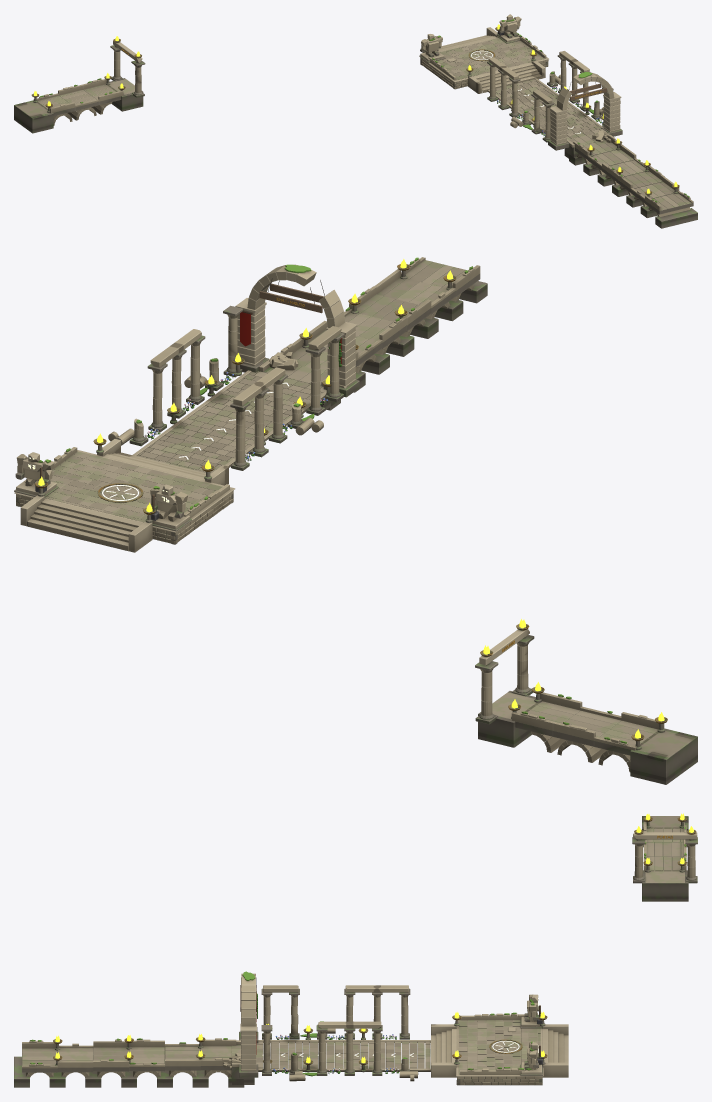
File: LOBBY_SN_07_EXIT_c47183.fbx
3 views of the same model, one above another, from view 1: azimuth 30°, elevation 25°; view 2: azimuth 150°, elevation 25°; view 3: azimuth 270°, elevation 25° (orthographic). The views are drawn at different scales.
Visible parts, largest first — view 1: WB_Exit_Spawn__SNB_Spawn, WB_Exit_Bridge__SNB_Bridge, WB_Exit_IsleBridge__SNB_IsleBridge, WB_Exit_Avenue__SNB_Avenue_1, WB_Exit_Gate__SNB_Gate, WB_Exit_Avenue__SNB_Avenue_0; view 2: WB_Exit_Spawn__SNB_Spawn, WB_Exit_IsleBridge__SNB_IsleBridge, WB_Exit_Bridge__SNB_Bridge, WB_Exit_Avenue__SNB_Avenue_1, WB_Exit_Avenue__SNB_Avenue_0, WB_Exit_Gate__SNB_Gate; view 3: WB_Exit_Spawn__SNB_Spawn, WB_Exit_Bridge__SNB_Bridge, WB_Exit_Avenue__SNB_Avenue_1, WB_Exit_Avenue__SNB_Avenue_0, WB_Exit_IsleBridge__SNB_IsleBridge, WB_Exit_Gate__SNB_Gate.
Part boxes in pixels (bbox=[...]): WB_Exit_Spawn__SNB_Spawn: bbox=[419, 14, 548, 93]; WB_Exit_Bridge__SNB_Bridge: bbox=[564, 129, 697, 228]; WB_Exit_IsleBridge__SNB_IsleBridge: bbox=[14, 38, 145, 133]; WB_Exit_Avenue__SNB_Avenue_1: bbox=[487, 51, 602, 131]; WB_Exit_Gate__SNB_Gate: bbox=[548, 72, 622, 150]; WB_Exit_Avenue__SNB_Avenue_0: bbox=[496, 59, 613, 142]; WB_Exit_Spawn__SNB_Spawn: bbox=[14, 438, 235, 552]; WB_Exit_IsleBridge__SNB_IsleBridge: bbox=[475, 624, 697, 784]; WB_Exit_Bridge__SNB_Bridge: bbox=[259, 257, 487, 410]; WB_Exit_Avenue__SNB_Avenue_1: bbox=[108, 332, 322, 473]; WB_Exit_Avenue__SNB_Avenue_0: bbox=[139, 305, 344, 467]; WB_Exit_Gate__SNB_Gate: bbox=[232, 264, 359, 397]; WB_Exit_Spawn__SNB_Spawn: bbox=[431, 994, 568, 1085]; WB_Exit_Bridge__SNB_Bridge: bbox=[14, 1037, 254, 1087]; WB_Exit_Avenue__SNB_Avenue_1: bbox=[271, 985, 430, 1081]; WB_Exit_Avenue__SNB_Avenue_0: bbox=[256, 985, 425, 1081]; WB_Exit_IsleBridge__SNB_IsleBridge: bbox=[632, 816, 697, 901]; WB_Exit_Gate__SNB_Gate: bbox=[223, 971, 272, 1077].
Bounding box in the file's own units: 208 × 36.18 × 223.
Materials: 8 (5 with a texture image).
